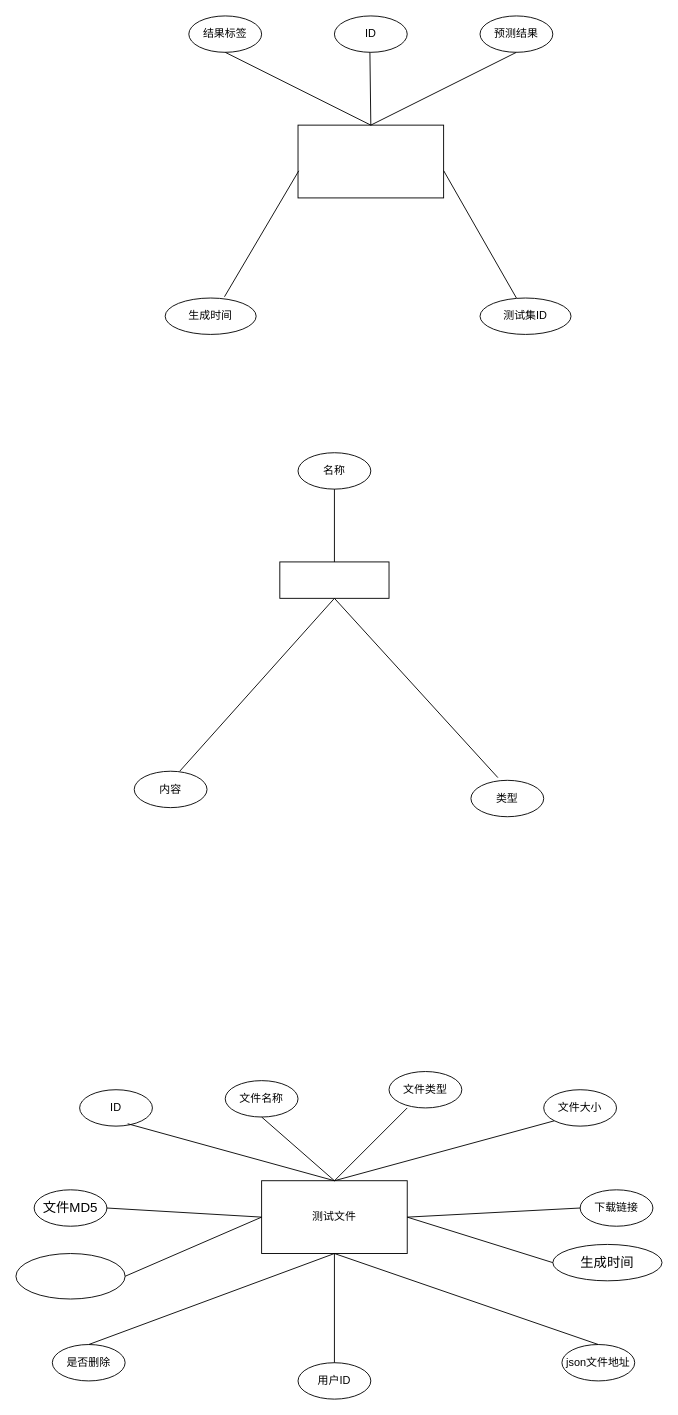
Some shapes in this 678 by 1415 pixel diagram are drawn without their labels. The centre of each missing label's shape, as x and y in pixels:
"字典" belongs at pixel 334 579.
"是否预测" belongs at pixel 70 1276.
"结果" belongs at pixel 370 161.
